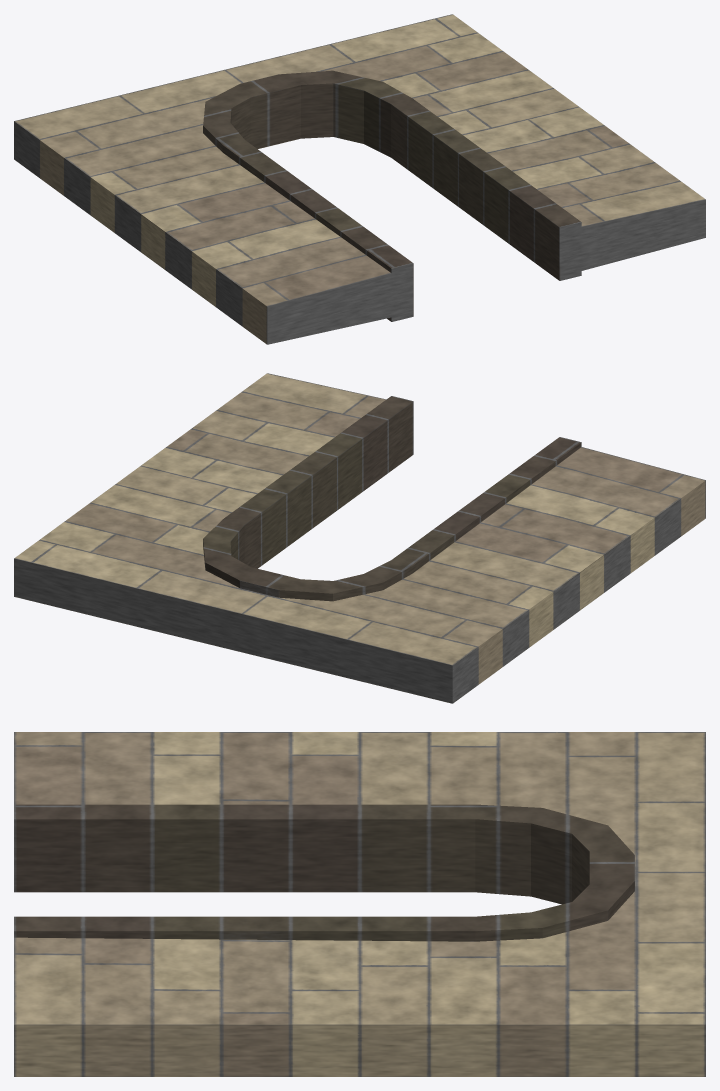
File: BrickArch.fbx
The picture shows the model from 3 angles, top to bottom: view 1: azimuth 30°, elevation 25°; view 2: azimuth 150°, elevation 25°; view 3: azimuth 270°, elevation 25°; orthographic projection. The views are drawn at different scales.
Parts seen in each view (by area): view 1: BrickDoorway_Baked; view 2: BrickDoorway_Baked; view 3: BrickDoorway_Baked.
Boxes of the visible parts, bbox=[...] form: BrickDoorway_Baked: bbox=[14, 14, 705, 344]; BrickDoorway_Baked: bbox=[14, 373, 705, 703]; BrickDoorway_Baked: bbox=[14, 732, 705, 1076].
Bounding box in the file's own units: 300 × 35 × 300.
1 material, 1 textured.
